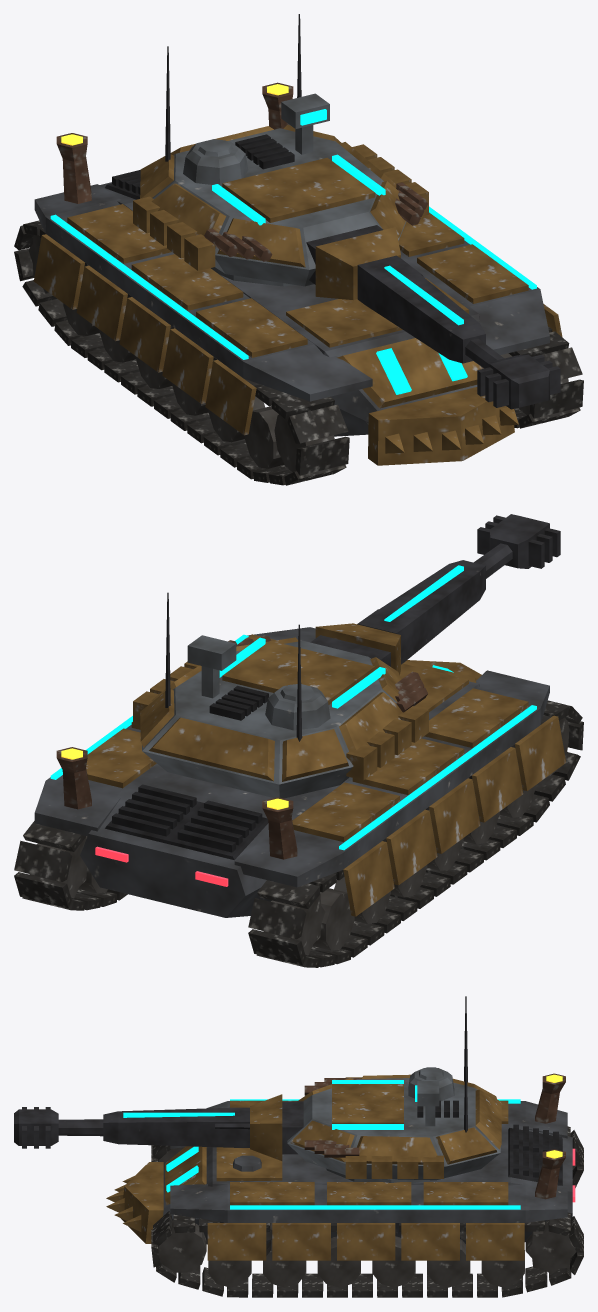
Rendered from tank.glb.
3 renders of one model, top to bottom at view 1: azimuth 30°, elevation 25°; view 2: azimuth 150°, elevation 25°; view 3: azimuth 270°, elevation 25°, orthographic. The views are drawn at different scales.
Visible parts, largest first — view 1: Track_Links_R, Armor_Skirt_R, Hull_Sponson_R, Armor_Sponson_Plates_R, Tank_Turret, Hull_Ram_Blade, Barrel_Heat_Shroud, Armor_Turret_Roof_Plate, Tank_Hull, Armor_Sponson_Plates_L, Armor_Glacis_Plate, Road_Wheels_R (+28 smaller); view 2: Tank_Hull, Track_Links_R, Armor_Skirt_R, Armor_Sponson_Plates_R, Hull_Sponson_R, Tank_Turret, Barrel_Heat_Shroud, Track_Links_L, Armor_Turret_Roof_Plate, Armor_Turret_Rear, Road_Wheels_R, Hull_Sponson_L (+27 smaller); view 3: Armor_Skirt_L, Track_Links_L, Hull_Sponson_L, Road_Wheels_L, Armor_Sponson_Plates_L, Tank_Turret, Barrel_Heat_Shroud, Tank_Hull, Armor_Turret_Roof_Plate, Hull_Ram_Blade, Armor_ERA_Blocks_L, Barrel_Mantlet (+28 smaller).
Part boxes in pixels (bbox=[...]): Track_Links_R: bbox=[14, 220, 349, 485]; Armor_Skirt_R: bbox=[33, 234, 256, 435]; Hull_Sponson_R: bbox=[34, 184, 372, 401]; Armor_Sponson_Plates_R: bbox=[67, 204, 307, 357]; Tank_Turret: bbox=[152, 128, 406, 286]; Hull_Ram_Blade: bbox=[368, 387, 514, 465]; Barrel_Heat_Shroud: bbox=[357, 255, 485, 363]; Armor_Turret_Roof_Plate: bbox=[222, 157, 375, 222]; Tank_Hull: bbox=[99, 182, 483, 436]; Armor_Sponson_Plates_L: bbox=[398, 212, 528, 303]; Armor_Glacis_Plate: bbox=[337, 338, 483, 408]; Road_Wheels_R: bbox=[63, 282, 284, 468]; Tank_Hull: bbox=[80, 681, 479, 917]; Track_Links_R: bbox=[248, 700, 583, 967]; Armor_Skirt_R: bbox=[343, 715, 566, 916]; Armor_Sponson_Plates_R: bbox=[292, 688, 528, 842]; Hull_Sponson_R: bbox=[234, 670, 549, 887]; Tank_Turret: bbox=[142, 641, 396, 798]; Barrel_Heat_Shroud: bbox=[357, 560, 485, 664]; Track_Links_L: bbox=[14, 821, 127, 910]; Armor_Turret_Roof_Plate: bbox=[222, 640, 375, 704]; Armor_Turret_Rear: bbox=[149, 717, 274, 781]; Road_Wheels_R: bbox=[313, 763, 535, 950]; Hull_Sponson_L: bbox=[34, 627, 315, 836]; Armor_Skirt_L: bbox=[207, 1223, 524, 1260]; Track_Links_L: bbox=[151, 1211, 583, 1297]; Hull_Sponson_L: bbox=[170, 1183, 567, 1222]; Road_Wheels_L: bbox=[208, 1236, 524, 1287]; Armor_Sponson_Plates_L: bbox=[230, 1182, 508, 1205]; Tank_Turret: bbox=[287, 1078, 500, 1180]; Barrel_Heat_Shroud: bbox=[103, 1107, 249, 1147]; Tank_Hull: bbox=[163, 1124, 572, 1245]; Armor_Turret_Roof_Plate: bbox=[332, 1084, 403, 1123]; Hull_Ram_Blade: bbox=[121, 1162, 163, 1243]; Armor_ERA_Blocks_L: bbox=[345, 1155, 443, 1178]; Barrel_Mantlet: bbox=[250, 1094, 282, 1160].
Bounding box in the file's own units: 5.64 × 5 × 11.48.
Materials: 1 (1 with a texture image).
